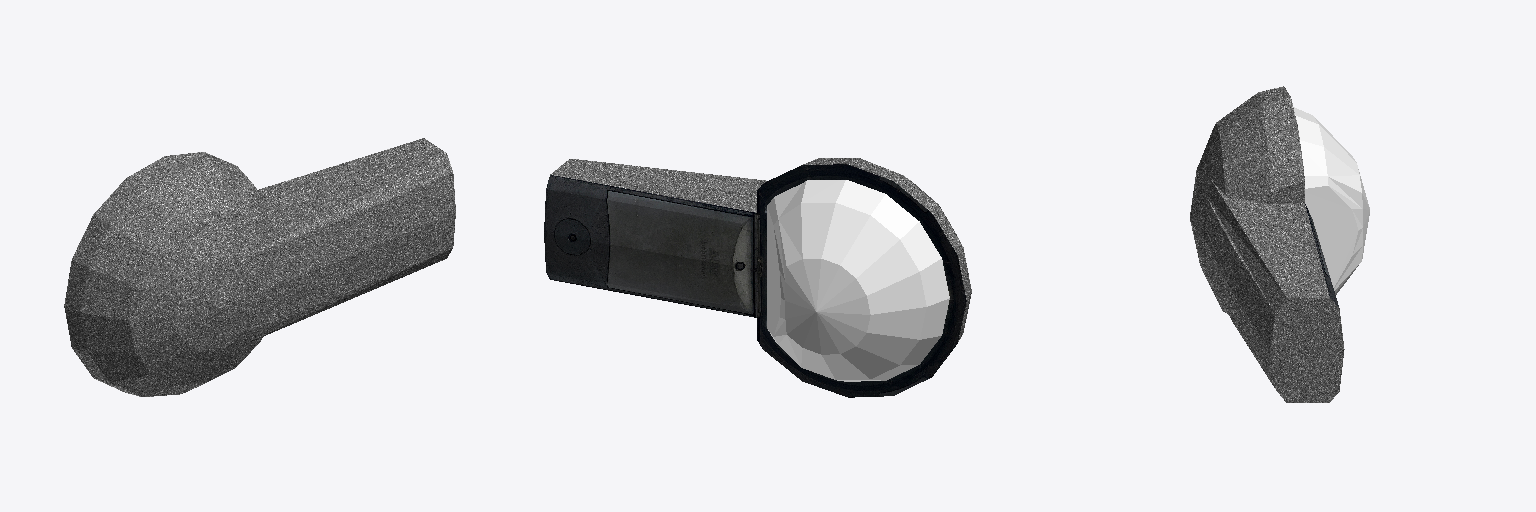
3 renders of one model, left to right at view 1: azimuth 30°, elevation 25°; view 2: azimuth 150°, elevation 25°; view 3: azimuth 270°, elevation 25°, orthographic.
Visible parts, largest first — view 1: Stradasole_400_Cube.003; view 2: Stradasole_400_Cube.003; view 3: Stradasole_400_Cube.003.
Boxes of the visible parts, <box> form: Stradasole_400_Cube.003: <box>64,138,455,396</box>; Stradasole_400_Cube.003: <box>544,158,971,397</box>; Stradasole_400_Cube.003: <box>1190,86,1369,402</box>.
Bounding box in the file's own units: 0.723 × 0.413 × 0.2897.
Materials: 3 (2 with a texture image).